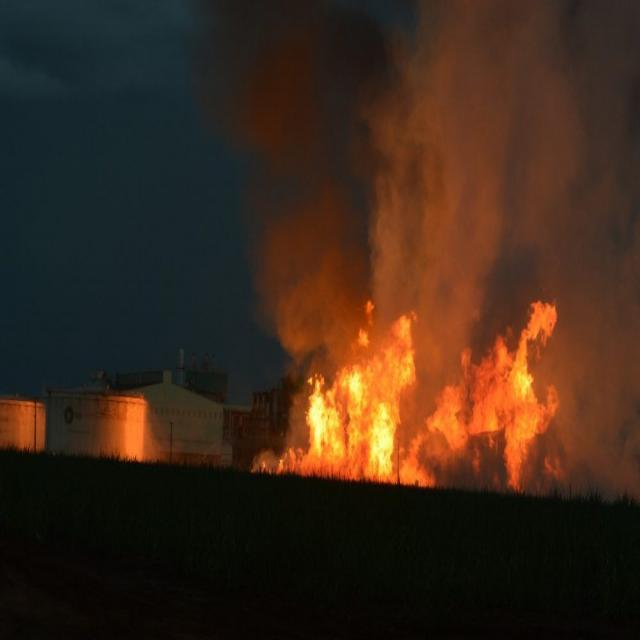Fire: (259, 284, 561, 490)
